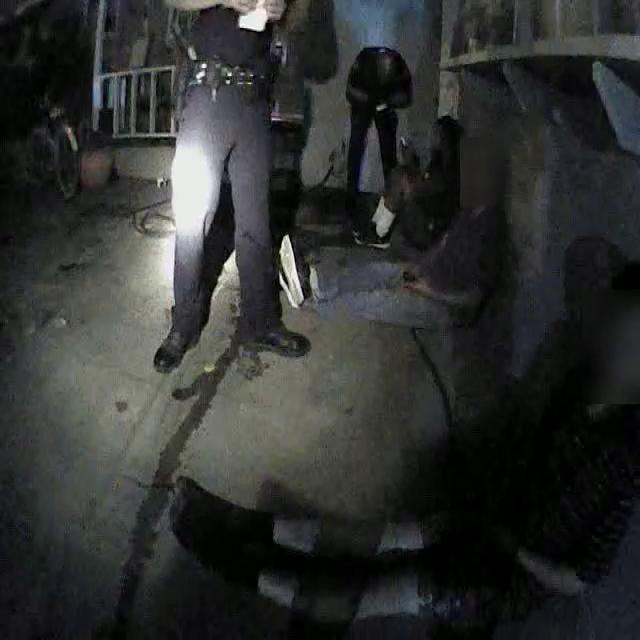gun: (164, 38, 193, 144)
